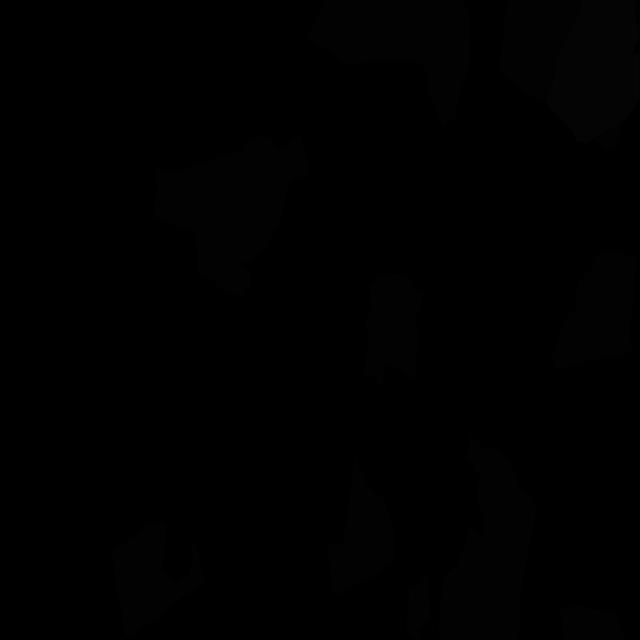cardboard: (152, 134, 310, 279), (306, 0, 471, 133), (438, 434, 536, 640), (112, 522, 204, 637), (552, 252, 636, 370), (327, 455, 394, 596), (499, 0, 582, 102), (364, 273, 424, 385), (210, 196, 251, 297), (559, 605, 625, 640), (406, 576, 431, 640), (594, 122, 622, 149)
soft_plastic: (546, 0, 640, 144)
